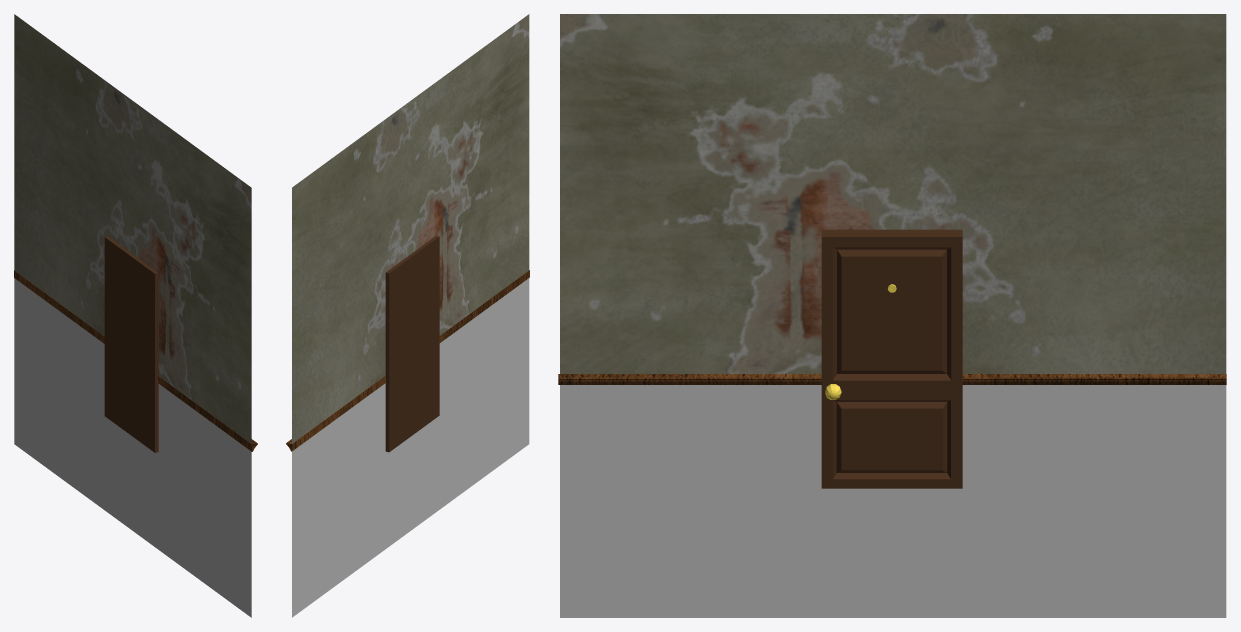
File: ekduvar2.fbx
3 views of the same model, side by side, from view 1: azimuth 30°, elevation 25°; view 2: azimuth 150°, elevation 25°; view 3: azimuth 270°, elevation 25° (orthographic). The views are drawn at different scales.
Parts seen in each view (by area): view 1: ekduvar; view 2: ekduvar; view 3: ekduvar.
Part boxes in pixels (<box>): ekduvar: <box>14,14,257,617</box>; ekduvar: <box>286,14,529,617</box>; ekduvar: <box>558,14,1226,617</box>.
Size of the model in its own units: 29.12 by 530 by 531.
